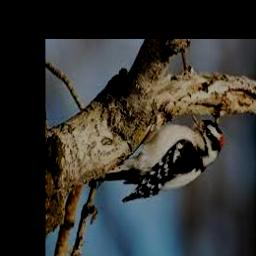Woodpecker: (89, 113, 223, 201)
